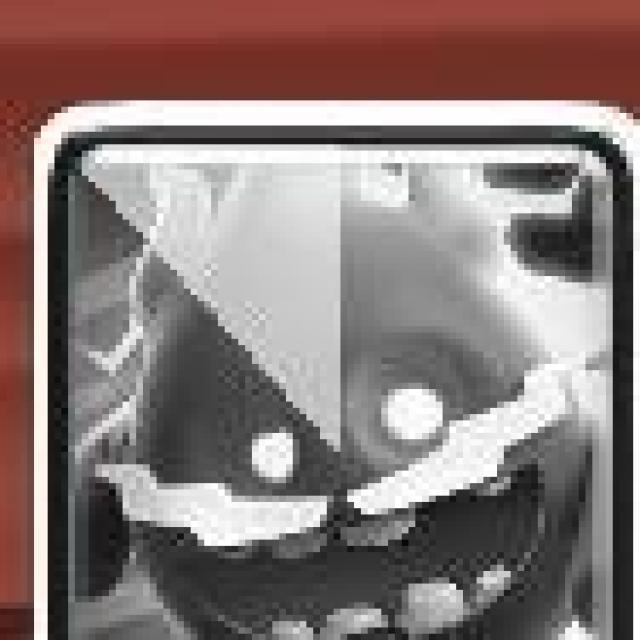Electro_Spirit: (24, 94, 633, 640)
